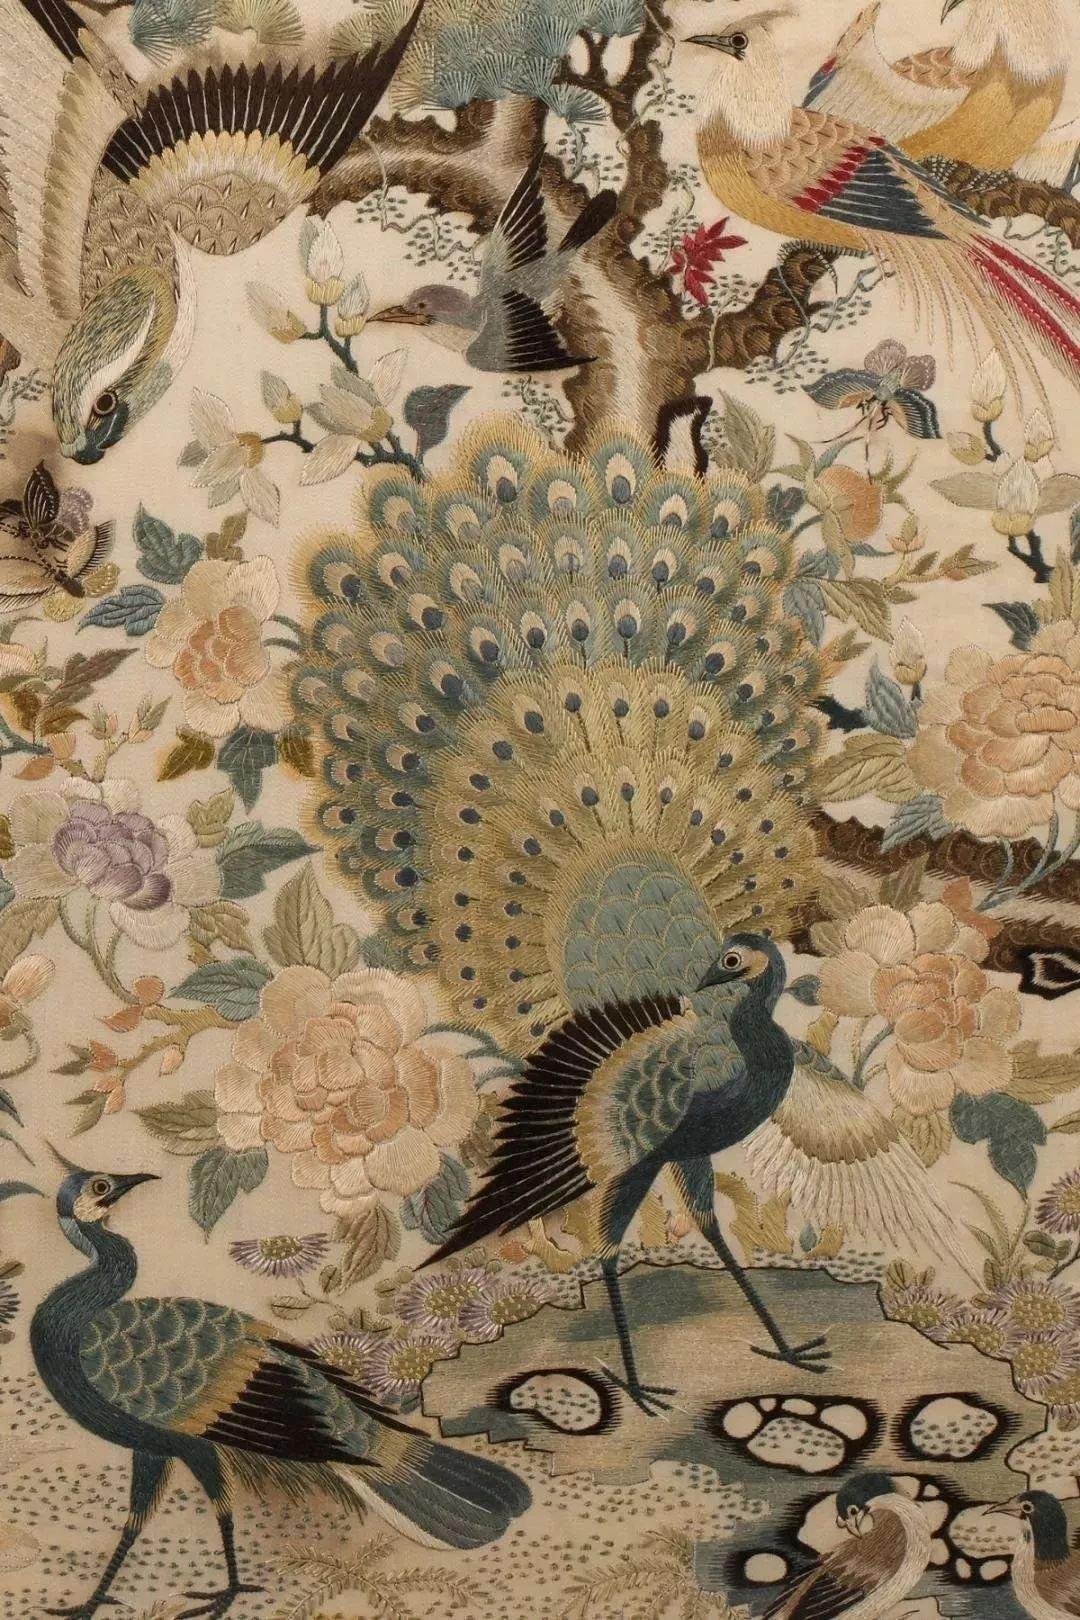bird: (1, 1, 416, 450), (682, 7, 1080, 435), (344, 137, 620, 381), (803, 1, 1080, 177)
flower: (223, 958, 482, 1210), (1, 736, 243, 953), (796, 896, 1026, 1117), (904, 641, 1076, 839), (145, 548, 298, 736)
peacock: (271, 446, 877, 1421), (22, 1151, 532, 1615)
